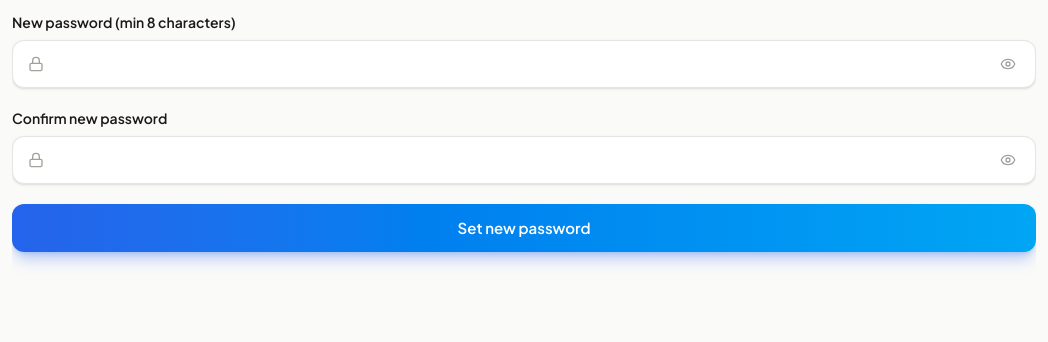
Test: ResetPasswordForm › shows other errors without the new-link prompt
The image size is (1048, 342).
In the password field labelled "New password (min 8 characters)": (524, 64) [12,40,1036,88], type "abc"
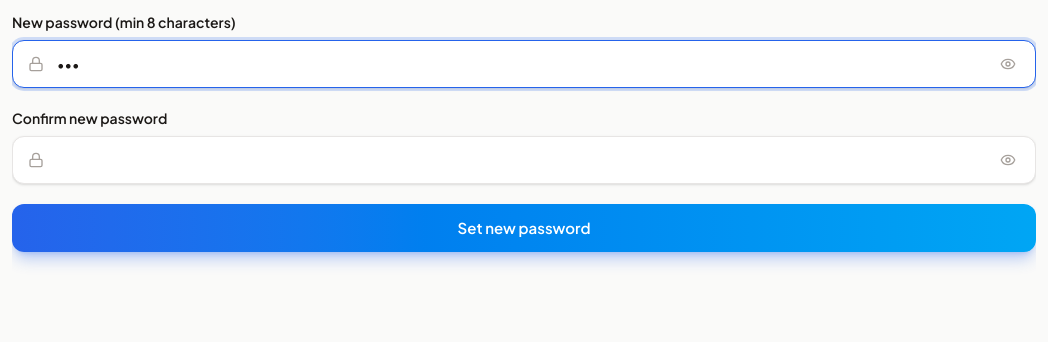
In the password field labelled "Confirm new password": (524, 160) [12,136,1036,184], type "abc"
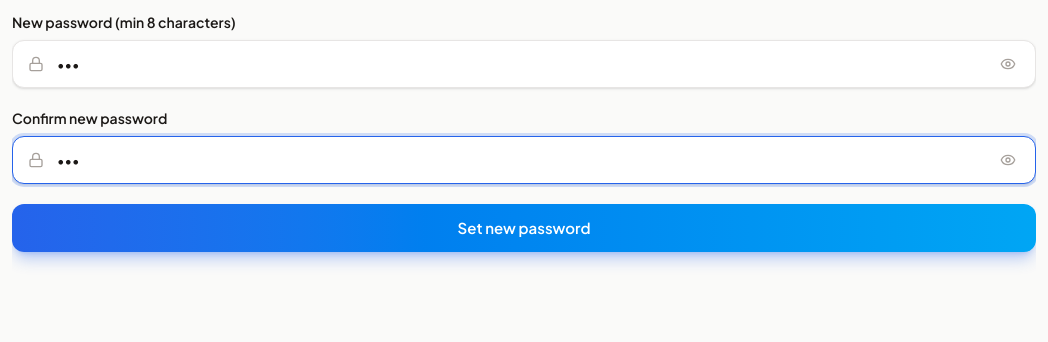
Click the button "Set new password": click(524, 228) [12,204,1036,252]
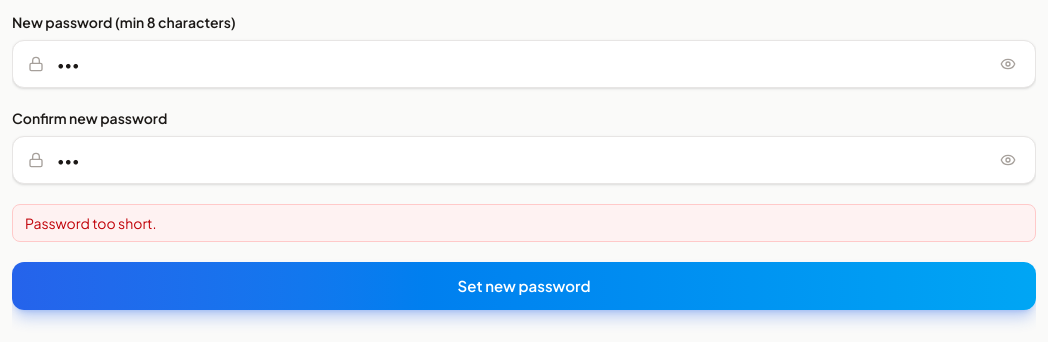
Check: the text "Password too short." is shown, box [12,204,1036,242]
